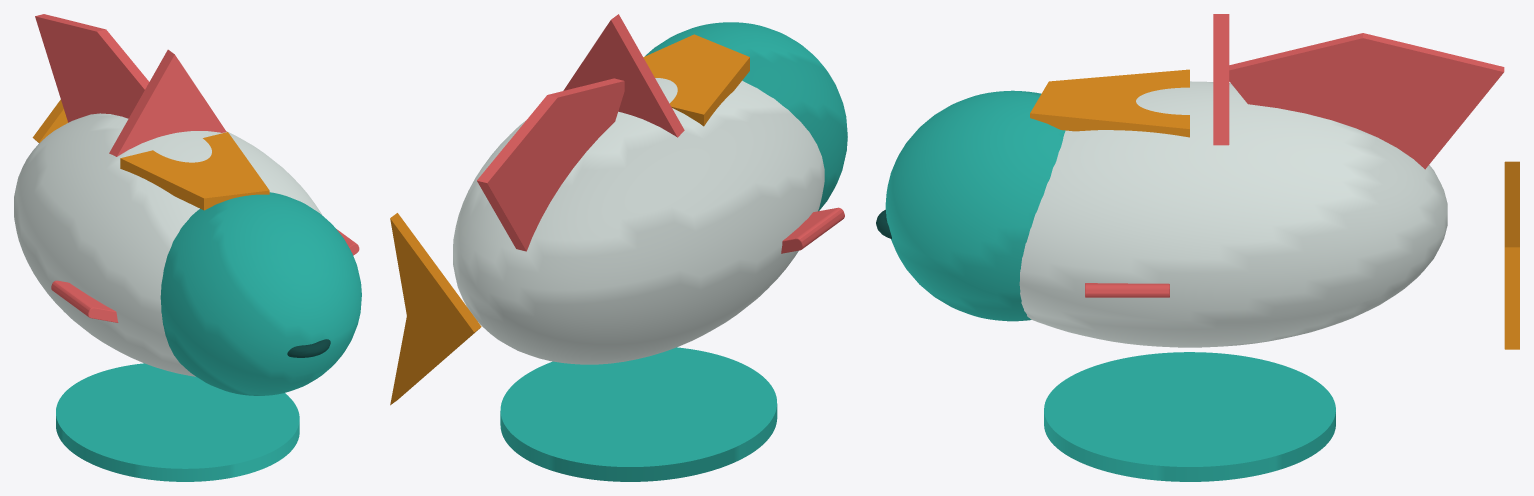
File: 0490_鱼类图鉴_大麻哈鱼.glb
The picture shows the model from 3 angles, left to right: view 1: azimuth 30°, elevation 25°; view 2: azimuth 150°, elevation 25°; view 3: azimuth 270°, elevation 25°; orthographic projection. The views are drawn at different scales.
Parts seen in each view (by area): view 1: card_0490; view 2: card_0490; view 3: card_0490.
Boxes of the visible parts, <box> form: card_0490: <box>14,14,361,481</box>; card_0490: <box>390,14,847,481</box>; card_0490: <box>876,14,1519,481</box>.
Size of the model in its own units: 0.7784 by 1 by 1.41.
